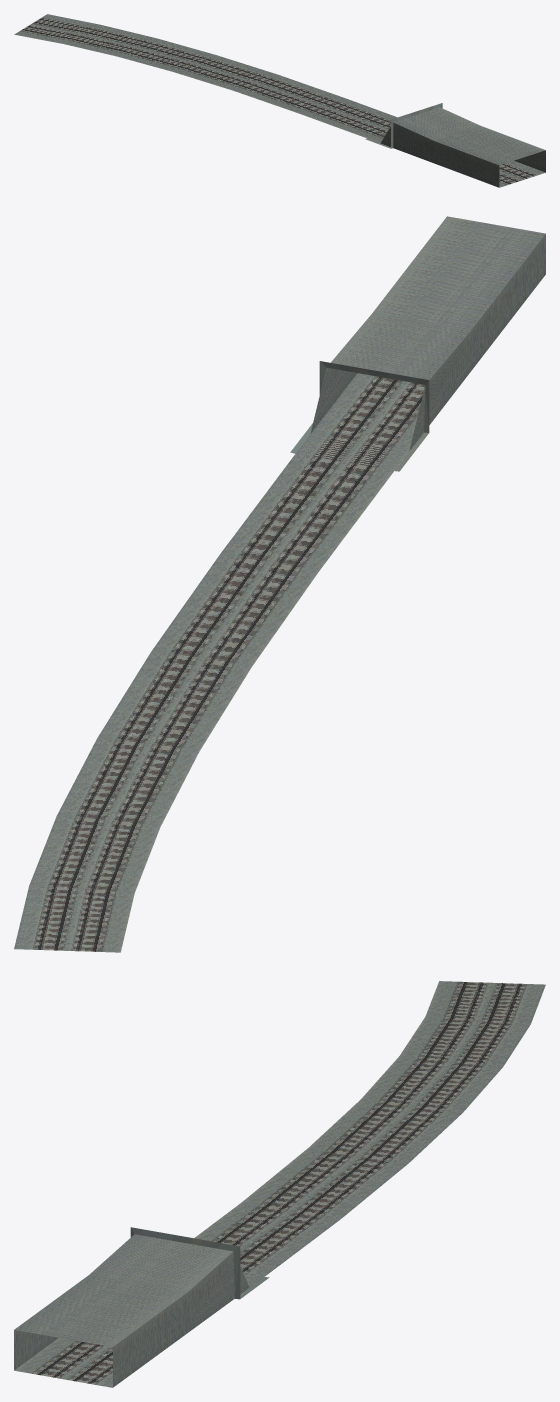
Rendered from lodcuntrail10.obj.
The picture shows the model from 3 angles, top to bottom: view 1: azimuth 30°, elevation 25°; view 2: azimuth 150°, elevation 25°; view 3: azimuth 330°, elevation 25°; orthographic projection. The views are drawn at different scales.
Visible parts, largest first — view 1: LODcuntrail10; view 2: LODcuntrail10; view 3: LODcuntrail10.
Boxes of the visible parts, bbox=[...] form: LODcuntrail10: bbox=[14, 14, 545, 187]; LODcuntrail10: bbox=[14, 216, 545, 952]; LODcuntrail10: bbox=[14, 981, 545, 1387].
Size of the model in its own units: 38.16 by 21.1 by 140.
1 material, 1 textured.
